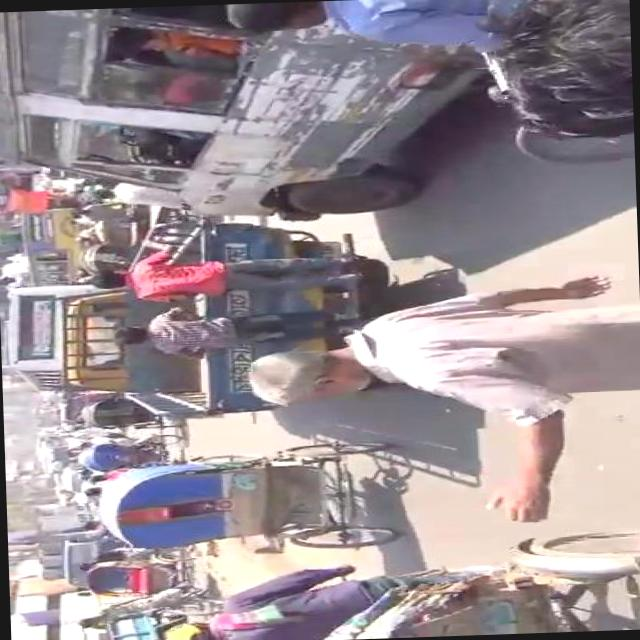bus: (0, 0, 481, 234), (0, 280, 119, 389), (17, 202, 77, 282)
motorcycle: (166, 528, 633, 640), (100, 436, 402, 554), (76, 548, 222, 620), (70, 429, 184, 479), (79, 396, 178, 430), (74, 238, 132, 276)
truck: (50, 218, 357, 422), (28, 502, 143, 598), (51, 460, 93, 496)
